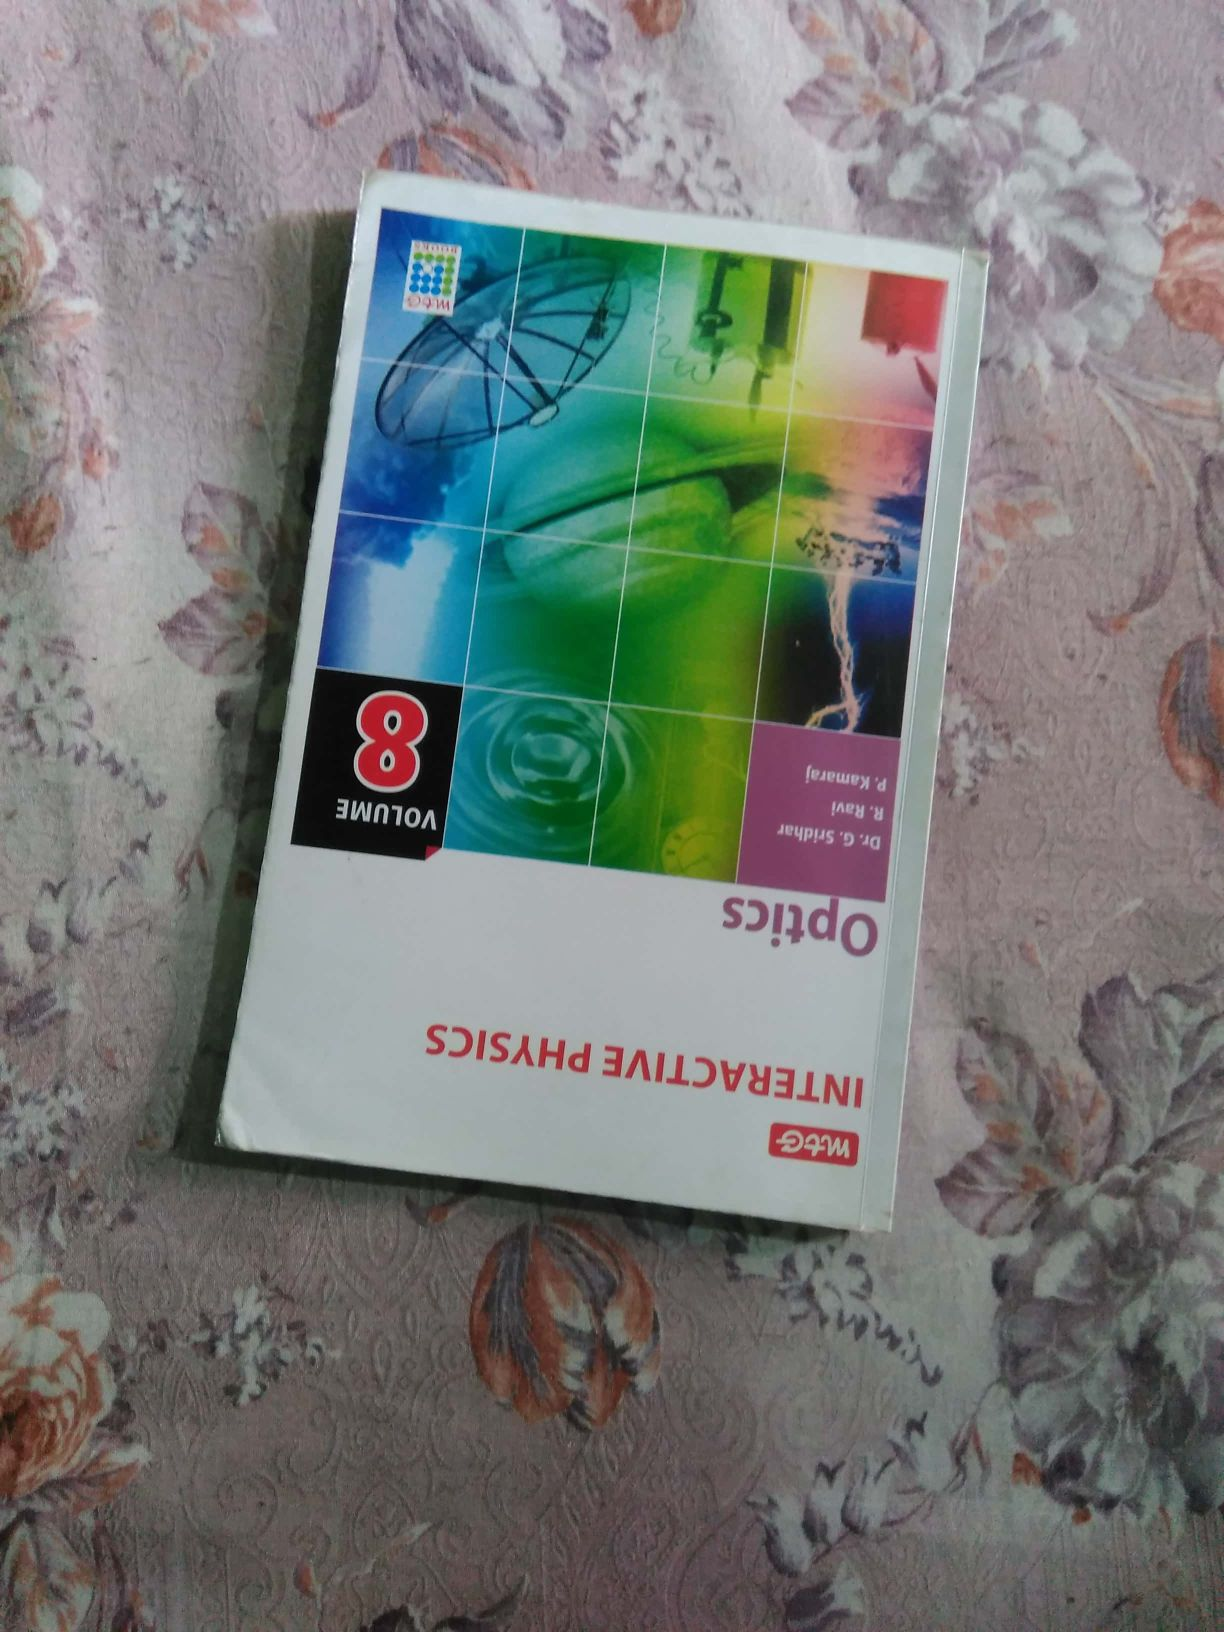optics: (224, 164, 981, 1270)
